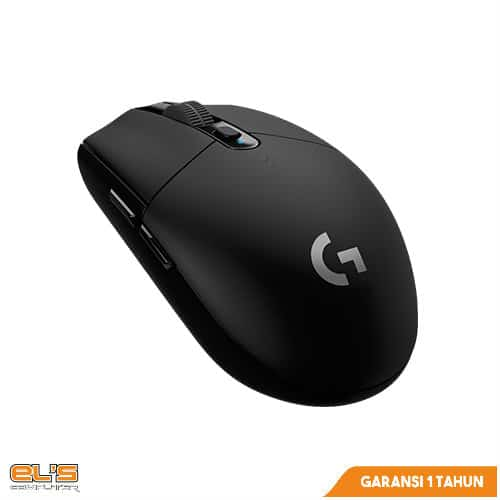Mouse: (68, 92, 424, 412)
